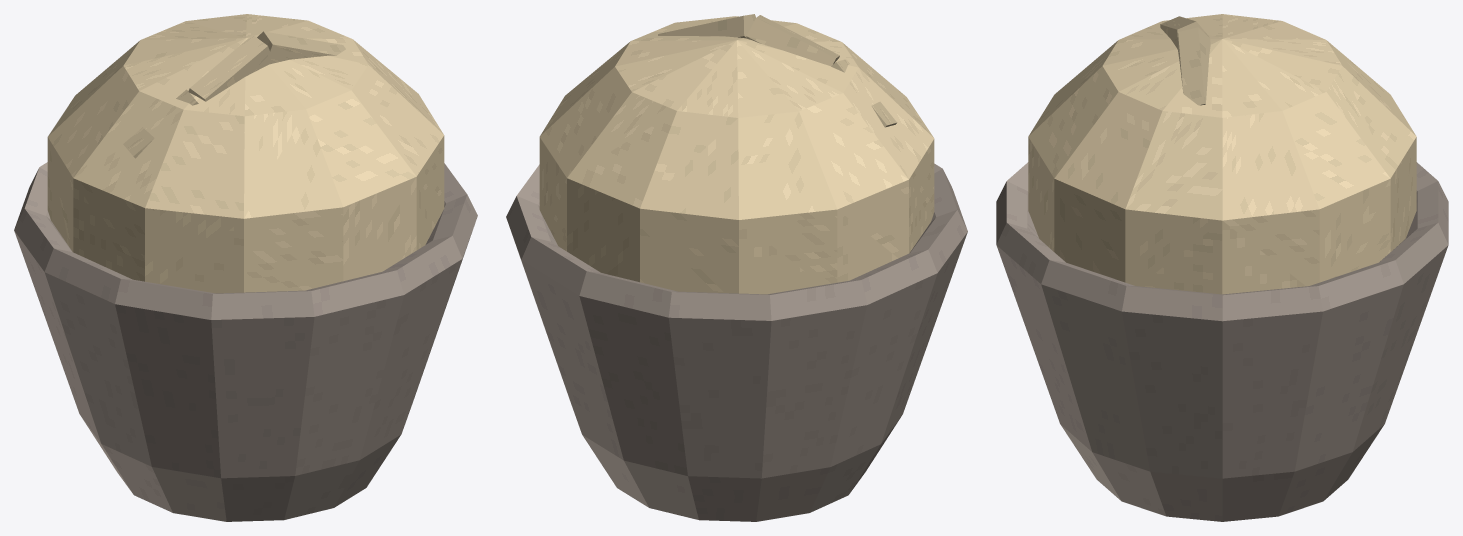
The model's file is icecream_gelato.glb.
3 renders of one model, left to right at view 1: azimuth 30°, elevation 25°; view 2: azimuth 150°, elevation 25°; view 3: azimuth 270°, elevation 25°, orthographic.
Visible parts, largest first — view 1: block_dessert dish, block_frozen scoop, block_scoop ridges 1, block_scoop ridges 2, block_scoop ridges 0; view 2: block_frozen scoop, block_dessert dish, block_scoop ridges 1, block_scoop ridges 2; view 3: block_dessert dish, block_frozen scoop, block_scoop ridges 2, block_scoop ridges 1.
Boxes of the visible parts, left/top/right/bottom form: block_dessert dish: left=14, top=162, right=477, bottom=521; block_frozen scoop: left=47, top=14, right=444, bottom=293; block_scoop ridges 1: left=188, top=35, right=269, bottom=101; block_scoop ridges 2: left=257, top=31, right=345, bottom=64; block_scoop ridges 0: left=123, top=89, right=198, bottom=158; block_frozen scoop: left=539, top=16, right=934, bottom=294; block_dessert dish: left=506, top=163, right=967, bottom=521; block_scoop ridges 1: left=746, top=15, right=839, bottom=66; block_scoop ridges 2: left=658, top=14, right=755, bottom=38; block_dessert dish: left=996, top=162, right=1448, bottom=521; block_frozen scoop: left=1028, top=14, right=1416, bottom=294; block_scoop ridges 2: left=1178, top=27, right=1210, bottom=105; block_scoop ridges 1: left=1160, top=16, right=1209, bottom=49.
Size of the model in its own units: 0.1142 by 0.1203 by 0.1113.
1 material, 1 textured.
